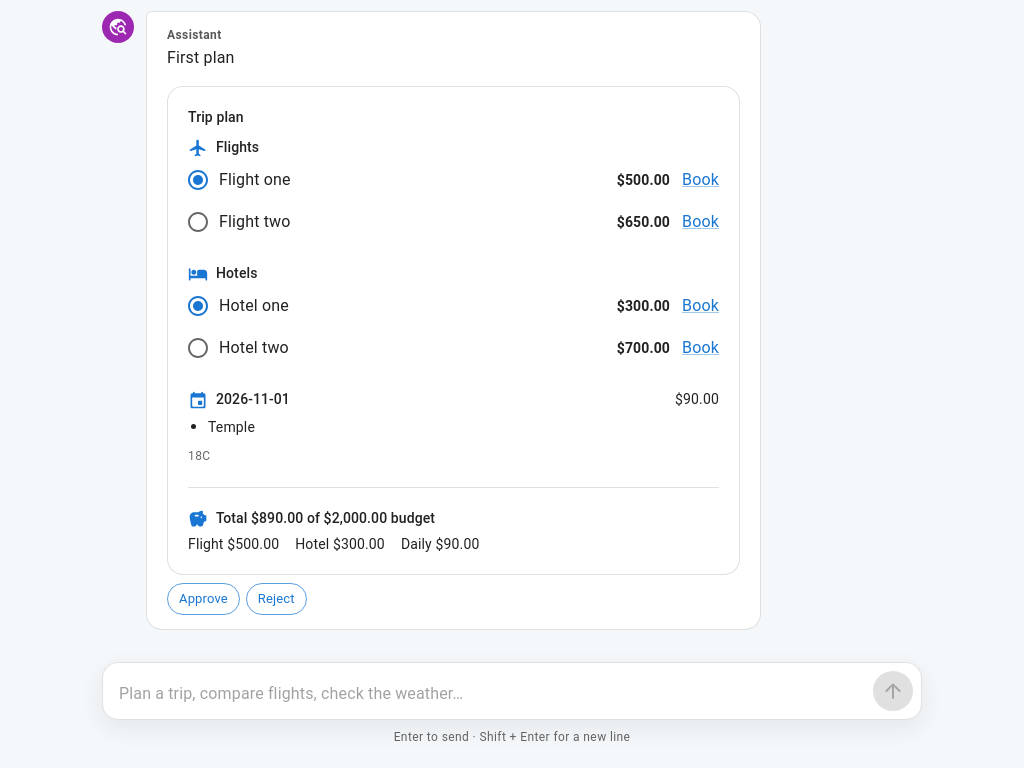
Test: ChatPage plan card › renders a streamed plan card, then marks the earlier card replaced after done
This screenshot has width=1024, height=768.
(page scrolled)
Expected: the text "First plan" is shown, 167,48 -> 234,67
In the text box named "Message": x=492, y=694 119,682 -> 865,705, type "Cheaper hotel"
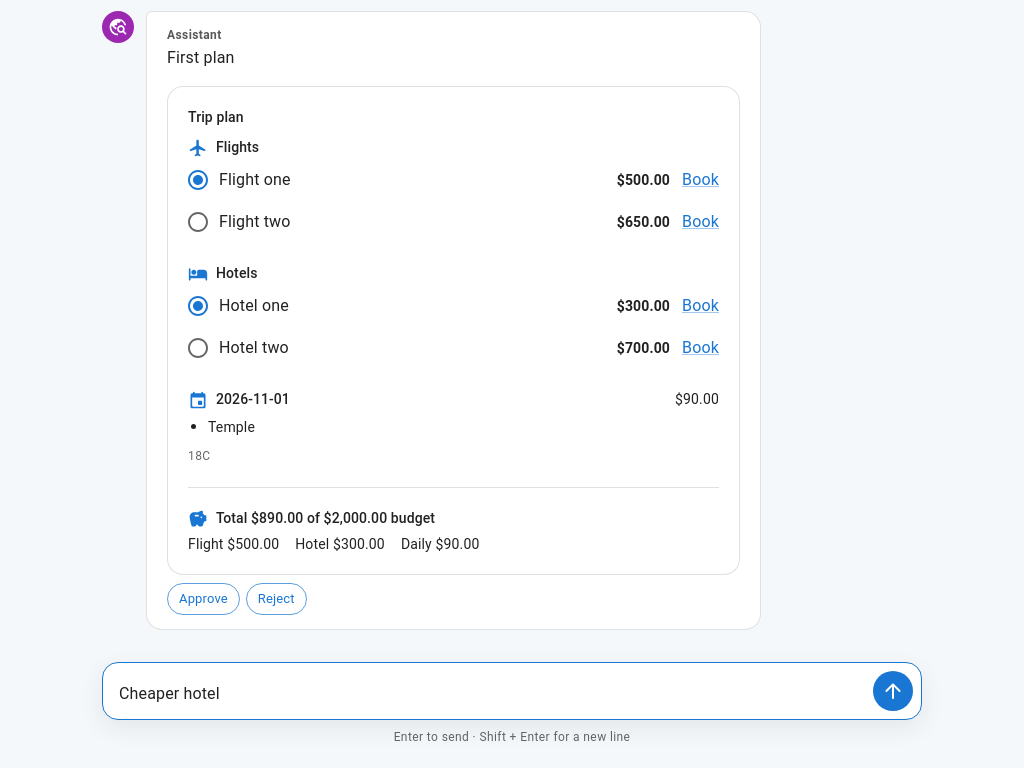
Click the button named "Send": x=893, y=691 873,671 -> 913,711
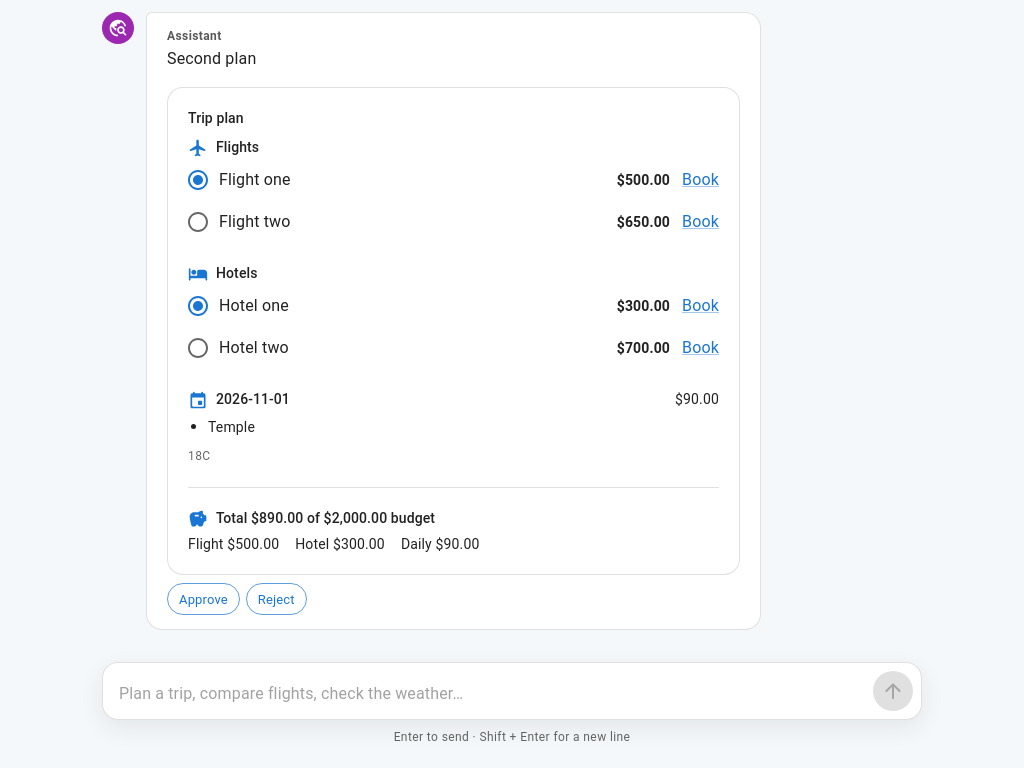
Expected: the radio button labelled "Hotel two" is enabled, 186,336 -> 289,360
Expected: the text "Second plan" is shown, 167,48 -> 256,68
